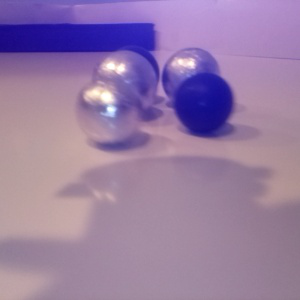alive_ball: (75, 78, 142, 146), (93, 50, 157, 117), (161, 47, 221, 110)
dead_ball: (173, 71, 234, 134), (109, 45, 160, 98)
